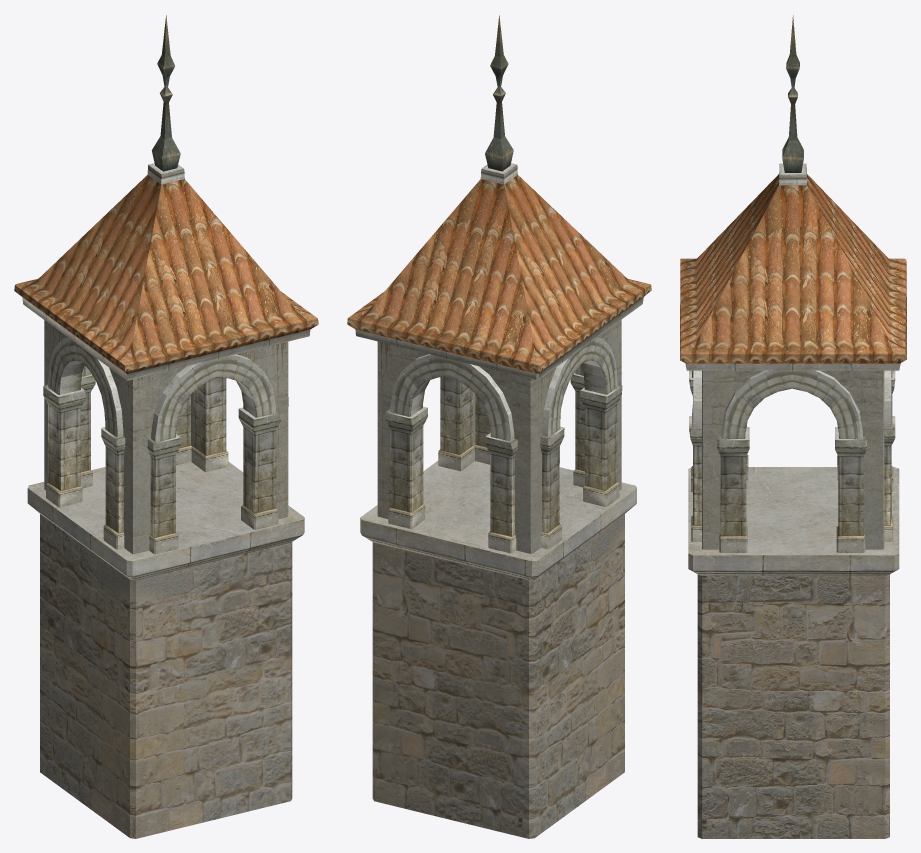
File: bg_atm_leonhart_house02_sm_jjy.FBX
The picture shows the model from 3 angles, left to right: view 1: azimuth 30°, elevation 25°; view 2: azimuth 150°, elevation 25°; view 3: azimuth 270°, elevation 25°; orthographic projection.
Visible parts, largest first — view 1: bg_atm_leonhart_house02_sm_jjy; view 2: bg_atm_leonhart_house02_sm_jjy; view 3: bg_atm_leonhart_house02_sm_jjy.
Part boxes in pixels (x1=…): bg_atm_leonhart_house02_sm_jjy: x1=14, y1=15, x2=318, y2=838; bg_atm_leonhart_house02_sm_jjy: x1=347, y1=15, x2=651, y2=838; bg_atm_leonhart_house02_sm_jjy: x1=680, y1=15, x2=906, y2=838.
Size of the model in its own units: 166 by 631 by 165.
